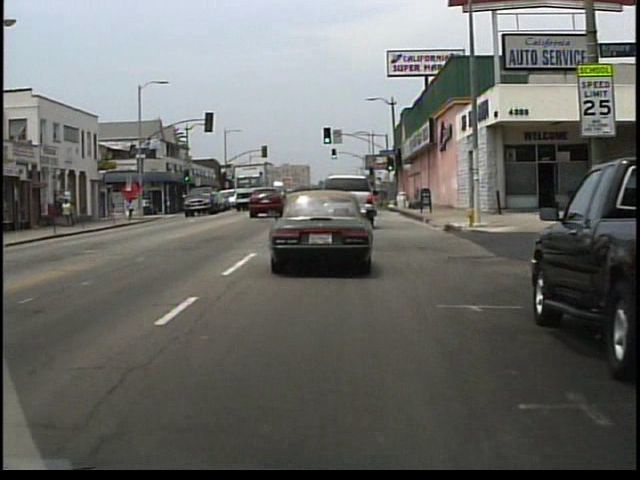person: (62, 197, 73, 227), (127, 197, 138, 220), (73, 201, 82, 228)
